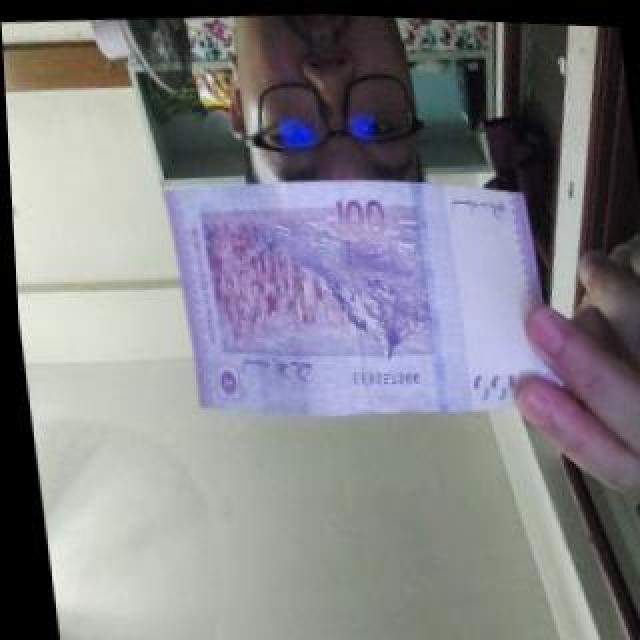100 Ringgit: (156, 148, 554, 425)
